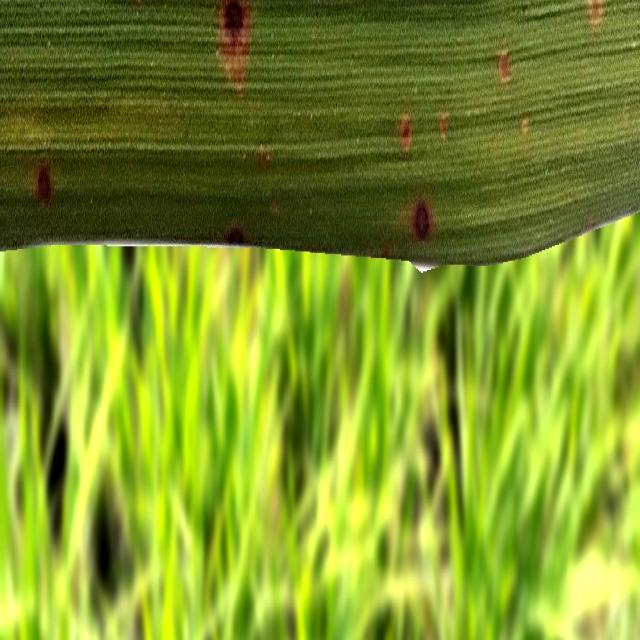LEAF BLAST: (218, 0, 251, 88), (412, 198, 433, 240)
